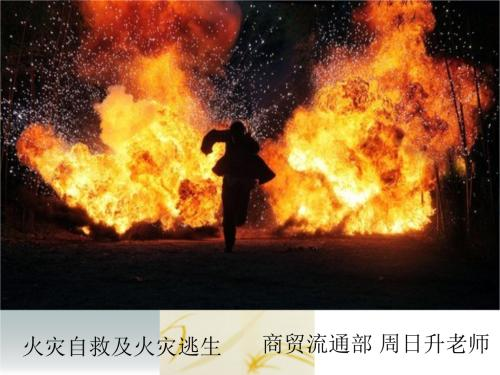fire: (16, 7, 476, 226)
